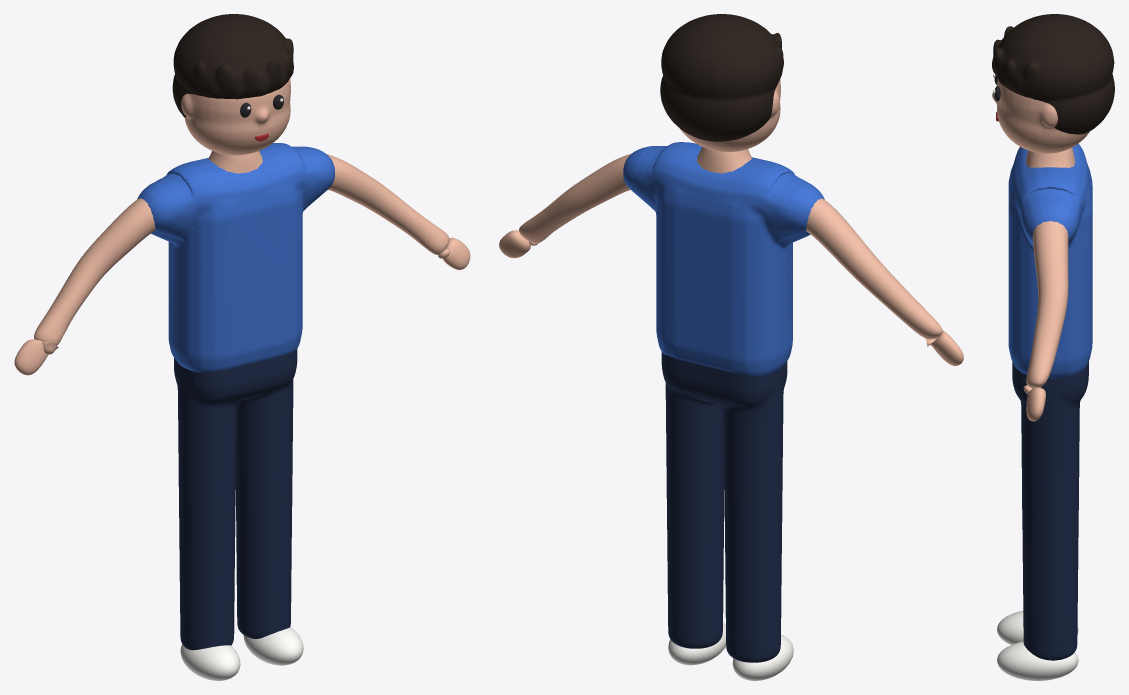
File: nakang_character.fbx
3 renders of one model, left to right at view 1: azimuth 30°, elevation 25°; view 2: azimuth 150°, elevation 25°; view 3: azimuth 270°, elevation 25°, orthographic.
Visible parts, largest first — view 1: nakang_character; view 2: nakang_character; view 3: nakang_character.
Boxes of the visible parts, x1,y1,x2,y2 form: nakang_character: [14, 14, 470, 680]; nakang_character: [499, 14, 963, 680]; nakang_character: [992, 14, 1114, 680].
Size of the model in its own units: 1.66 by 2.23 by 0.3869.
